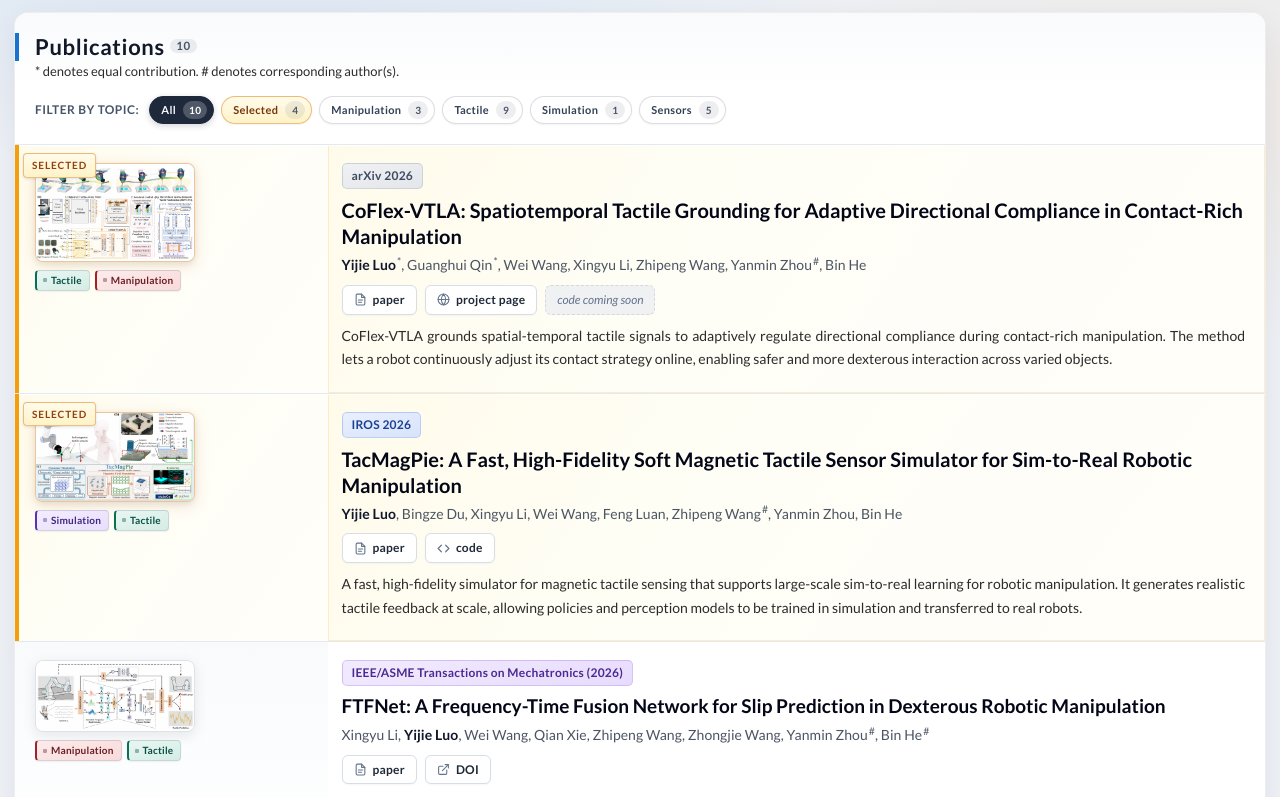
Test: Publications › filters by a tag category label
Click the button "Simulation 1" at (581, 110), box [530, 96, 632, 124]
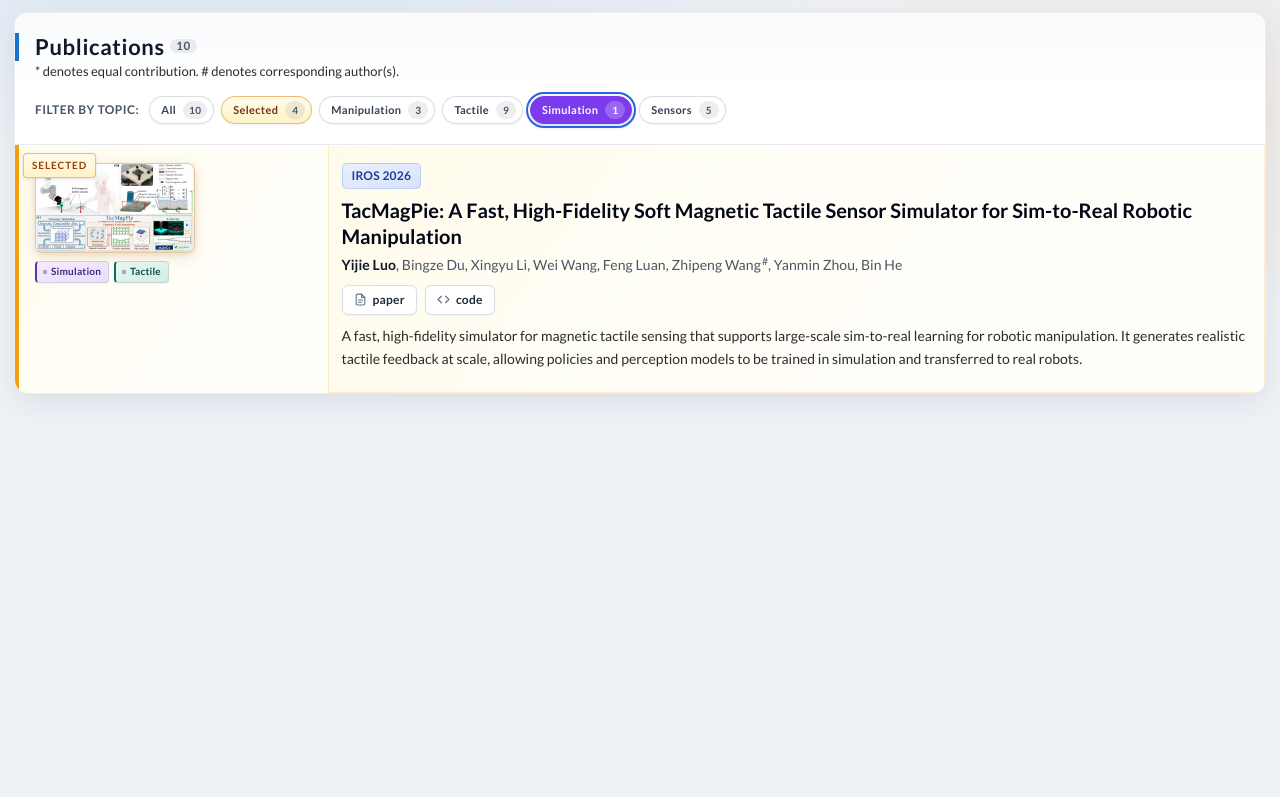
expect the link "TacMagPie" is shown: met, box [342, 198, 1192, 248]
expect the link "FTFNet" is gone: met
